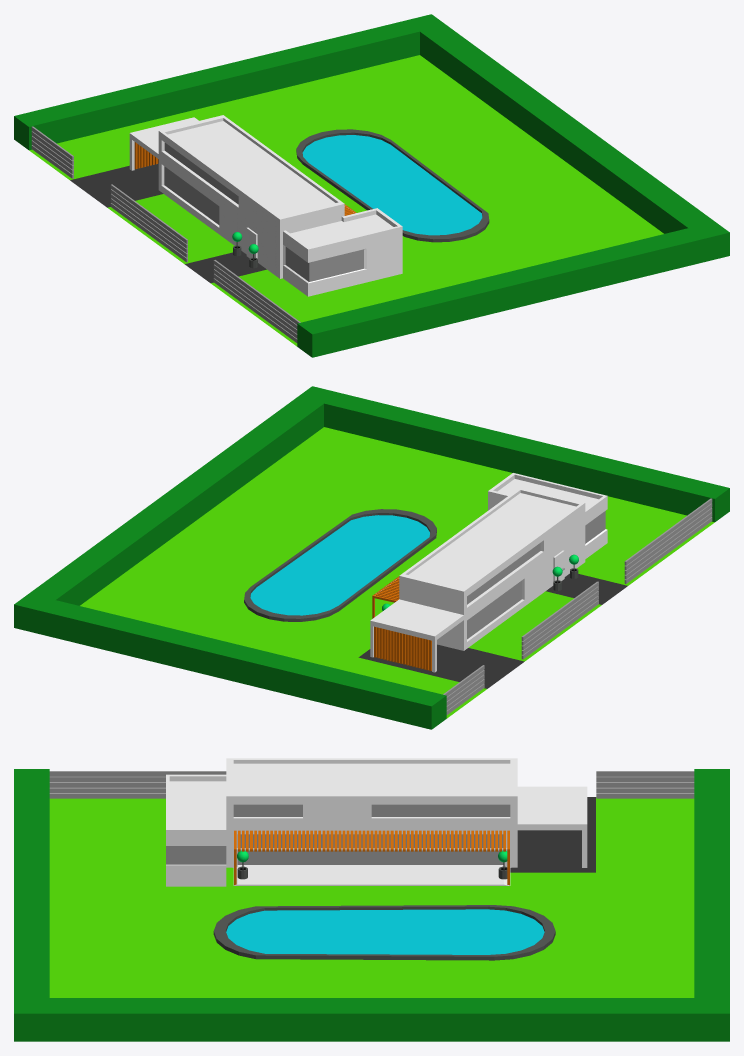
File: Building-H5.fbx
3 views of the same model, one above another, from view 1: azimuth 30°, elevation 25°; view 2: azimuth 150°, elevation 25°; view 3: azimuth 270°, elevation 25° (orthographic). The views are drawn at different scales.
Parts seen in each view (by area): view 1: Plane, Cube, Cylinder.004, Cube.005, Cube.008; view 2: Plane, Cube, Cylinder.004, Cube.005, Cube.001, Cube.008; view 3: Plane, Cube, Cylinder.004, Cube.005, Cube.002, Cube.008.
Boxes of the visible parts, left/top/right/bottom form: Plane: left=14, top=14, right=729, bottom=357; Cube: left=129, top=115, right=402, bottom=296; Cylinder.004: left=296, top=129, right=489, bottom=242; Cube.005: left=31, top=126, right=298, bottom=342; Cube.008: left=214, top=260, right=300, bottom=342; Plane: left=14, top=386, right=729, bottom=729; Cube: left=370, top=473, right=607, bottom=672; Cylinder.004: left=244, top=509, right=436, bottom=621; Cube.005: left=443, top=499, right=712, bottom=714; Cube.001: left=374, top=626, right=431, bottom=670; Cube.008: left=625, top=498, right=711, bottom=579; Plane: left=14, top=769, right=729, bottom=1041; Cube: left=166, top=758, right=587, bottom=886; Cylinder.004: left=213, top=905, right=555, bottom=960; Cube.005: left=49, top=771, right=694, bottom=798; Cube.002: left=234, top=830, right=509, bottom=885; Cube.008: left=49, top=771, right=226, bottom=798.
Bounding box in the file's own units: 1550 × 276 × 1917.
